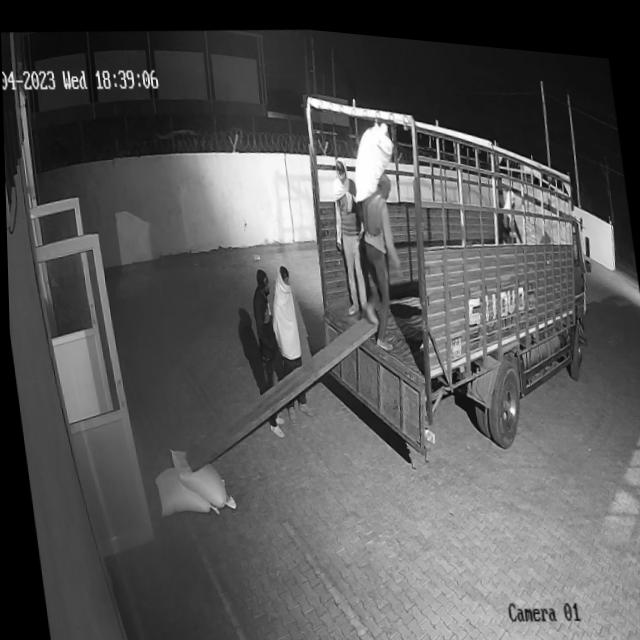sack: (342, 110, 400, 199), (166, 438, 232, 509), (149, 458, 214, 517)
